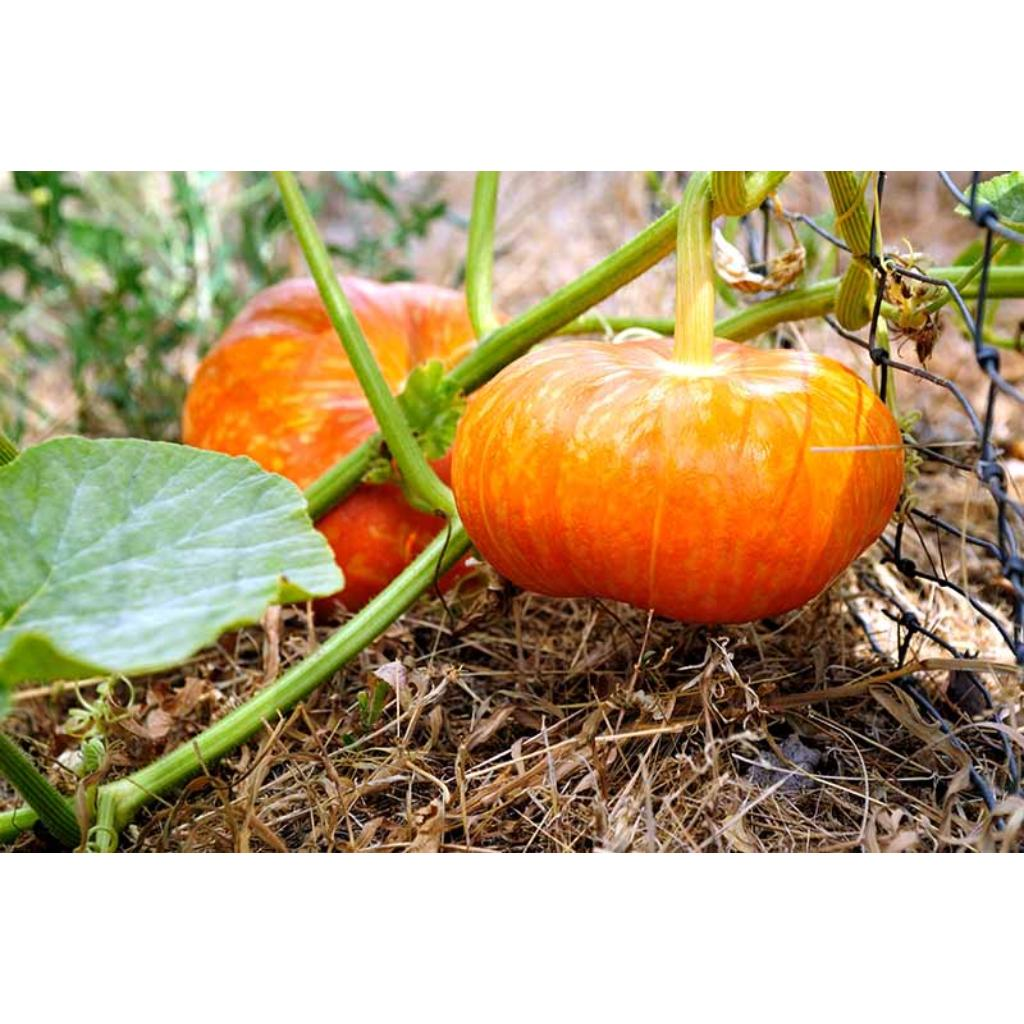pumpkin: (452, 171, 904, 622), (182, 279, 378, 486), (318, 483, 442, 610), (341, 277, 474, 392)
